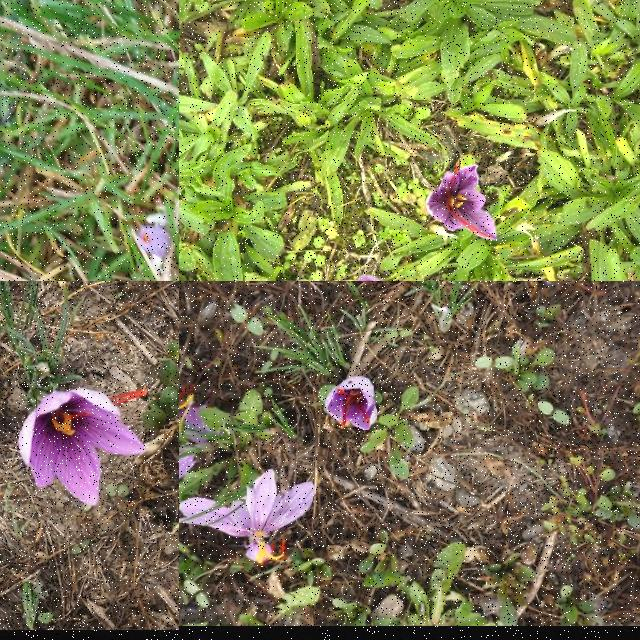flower: (19, 388, 149, 508), (426, 163, 498, 240), (324, 375, 378, 431), (138, 226, 172, 254)
